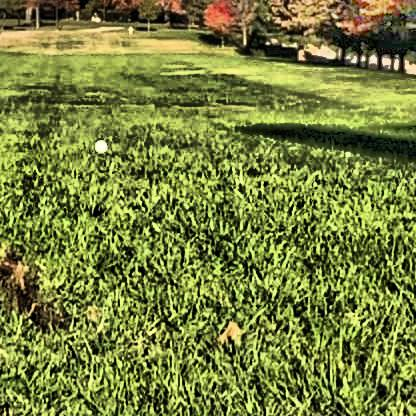golfball: (92, 137, 106, 151)
